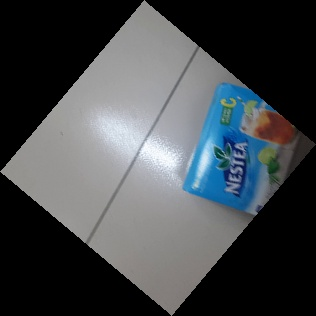Nestea: (181, 78, 316, 223)
